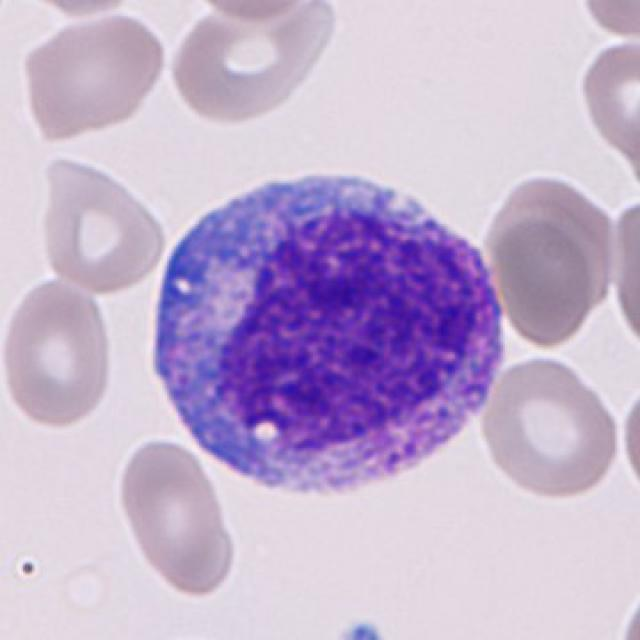Lymphocyte: (137, 151, 517, 516)
Platelets: (333, 617, 395, 640)
RBC: (89, 420, 311, 635), (476, 350, 626, 503), (167, 0, 340, 126), (112, 434, 240, 601), (16, 7, 169, 142), (32, 151, 172, 297), (0, 274, 117, 432), (487, 215, 601, 349), (578, 37, 640, 160), (610, 194, 640, 361), (185, 0, 320, 23), (618, 373, 640, 510), (572, 0, 639, 44), (14, 0, 142, 20), (613, 563, 639, 640)
